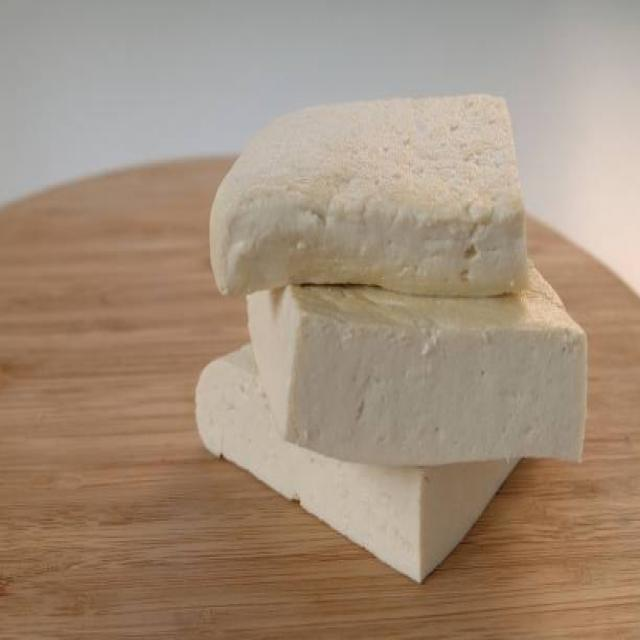Tofu Block: (209, 91, 531, 299), (254, 283, 593, 467)
